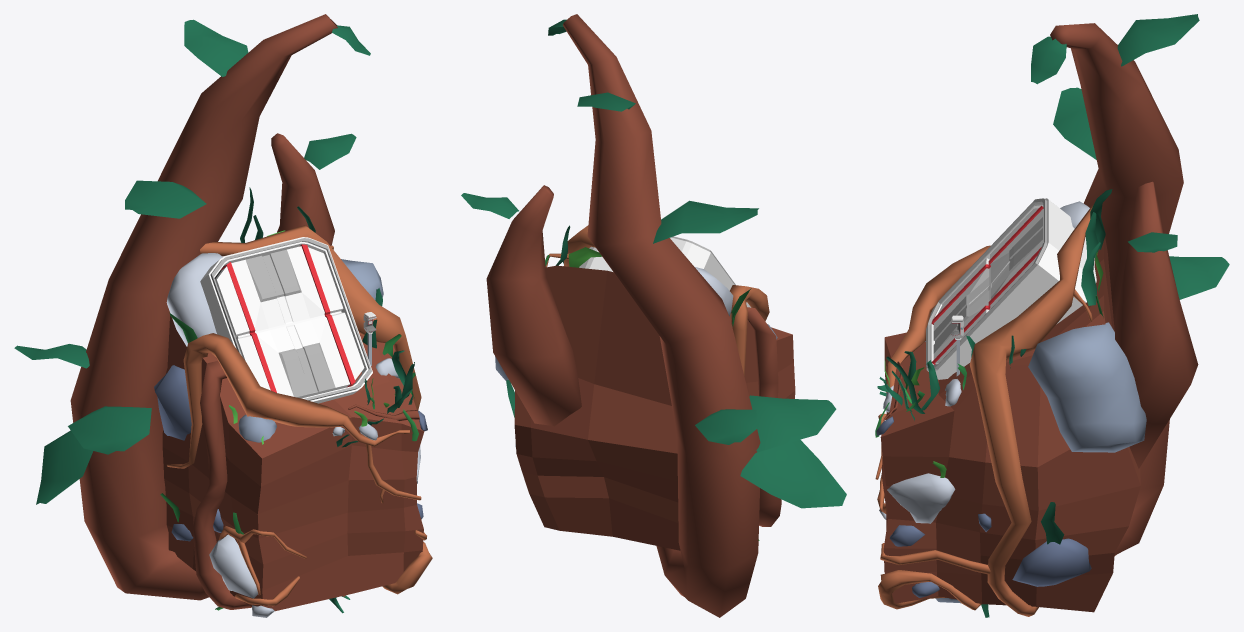
Rendered from DungeonEntrance.glb.
3 renders of one model, left to right at view 1: azimuth 30°, elevation 25°; view 2: azimuth 150°, elevation 25°; view 3: azimuth 270°, elevation 25°, orthographic. The views are drawn at different scales.
Parts seen in each view (by area): view 1: Entrance, DoorTop, DoorBot, Door; view 2: Entrance, Door; view 3: Entrance, Door, DoorBot, DoorTop.
Part boxes in pixels (x1,y1,x2,y2): Entrance: [14, 14, 432, 617]; DoorTop: [215, 244, 343, 338]; DoorBot: [236, 312, 364, 398]; Door: [200, 237, 372, 403]; Entrance: [461, 14, 846, 617]; Door: [579, 236, 750, 307]; Entrance: [875, 14, 1229, 617]; Door: [926, 198, 1096, 379]; DoorBot: [931, 258, 990, 364]; DoorTop: [988, 206, 1043, 309].
Bounding box in the file's own units: 4.4 × 6.6 × 3.4.
1 material, 1 textured.
